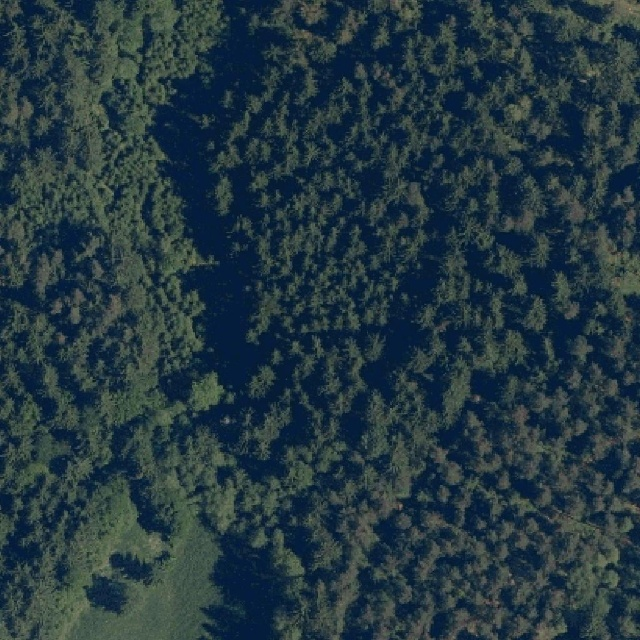vegetation: (0, 0, 640, 640)
